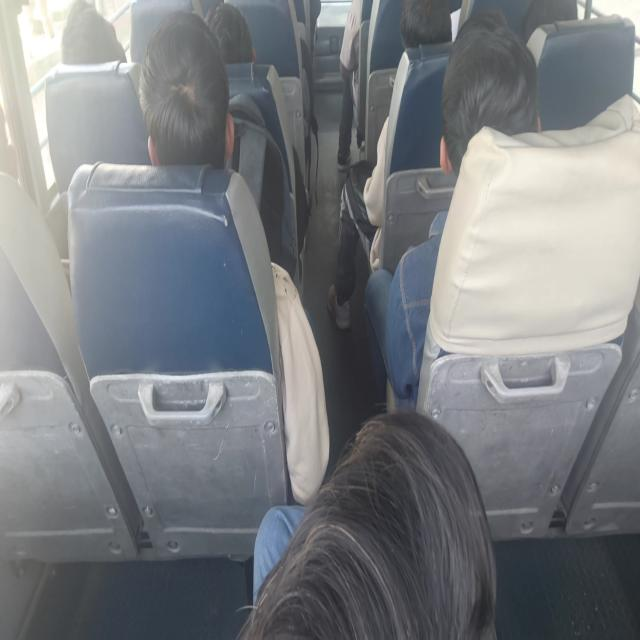person: (138, 9, 330, 504), (363, 13, 540, 410), (237, 408, 498, 638), (326, 0, 453, 330), (138, 9, 235, 169), (326, 114, 389, 330), (60, 0, 127, 65), (337, 0, 362, 171), (204, 1, 256, 64), (399, 0, 452, 49)
